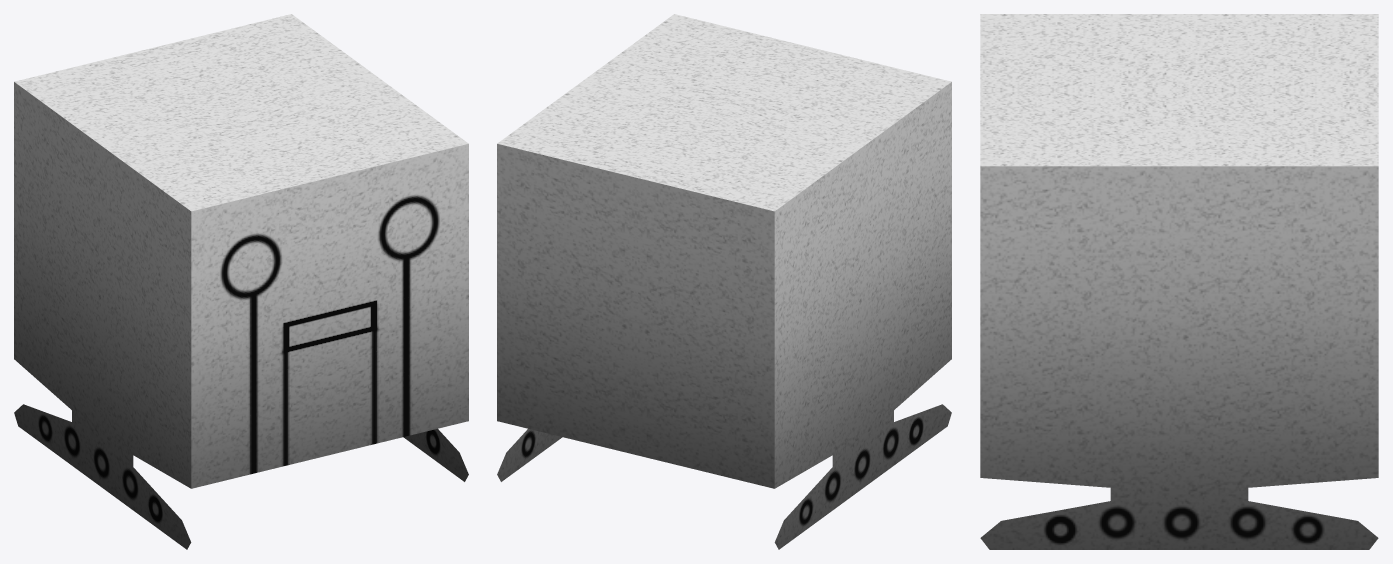
Rendered from katatiB.FBX.
The picture shows the model from 3 angles, left to right: view 1: azimuth 30°, elevation 25°; view 2: azimuth 150°, elevation 25°; view 3: azimuth 270°, elevation 25°; orthographic projection. The views are drawn at different scales.
Parts seen in each view (by area): view 1: Box001; view 2: Box001; view 3: Box001.
Boxes of the visible parts, <box> form: Box001: <box>14,14,468,549</box>; Box001: <box>497,14,951,549</box>; Box001: <box>980,14,1378,549</box>.
Bounding box in the file's own units: 32.71 × 38.45 × 36.17.
Materials: 1 (1 with a texture image).
